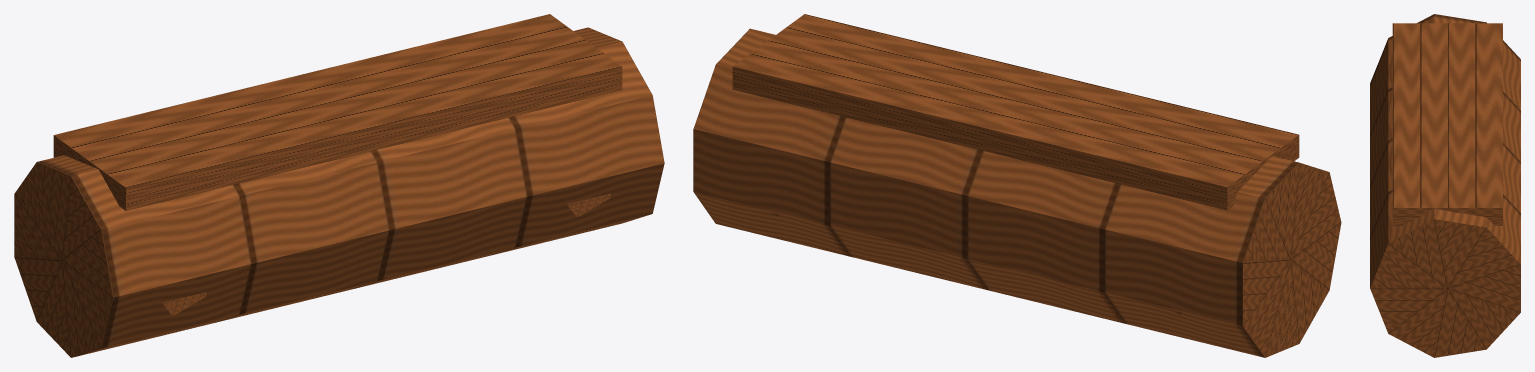
File: safari-camp-and-bush-lodge-log-seat-1dd4af1f__37682.glb
3 renders of one model, left to right at view 1: azimuth 30°, elevation 25°; view 2: azimuth 150°, elevation 25°; view 3: azimuth 270°, elevation 25°, orthographic. The views are drawn at different scales.
Parts seen in each view (by area): view 1: log-seat-timber; view 2: log-seat-timber; view 3: log-seat-timber.
Boxes of the visible parts, <box> form: log-seat-timber: <box>14,14,664,357</box>; log-seat-timber: <box>693,14,1341,357</box>; log-seat-timber: <box>1370,14,1520,357</box>.
Size of the model in its own units: 1.5 by 0.4763 by 0.4655.
Materials: 1 (1 with a texture image).
